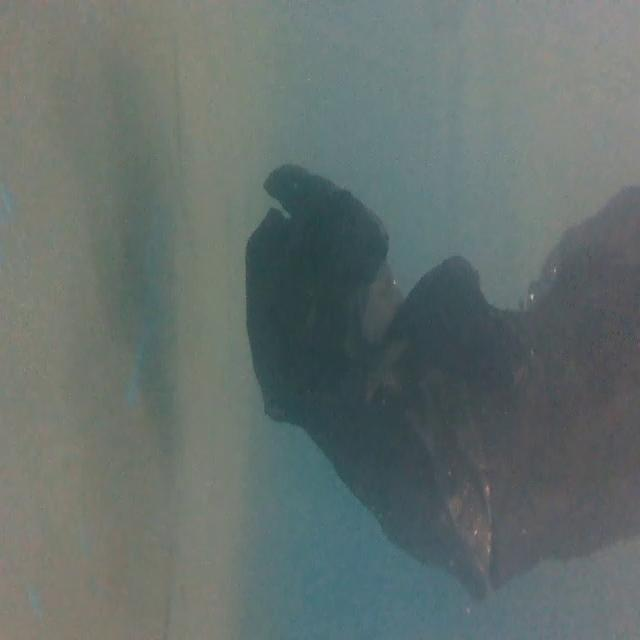plastic bags: (224, 146, 640, 570)
